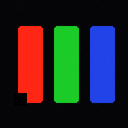1 square: (14, 93, 26, 105)
